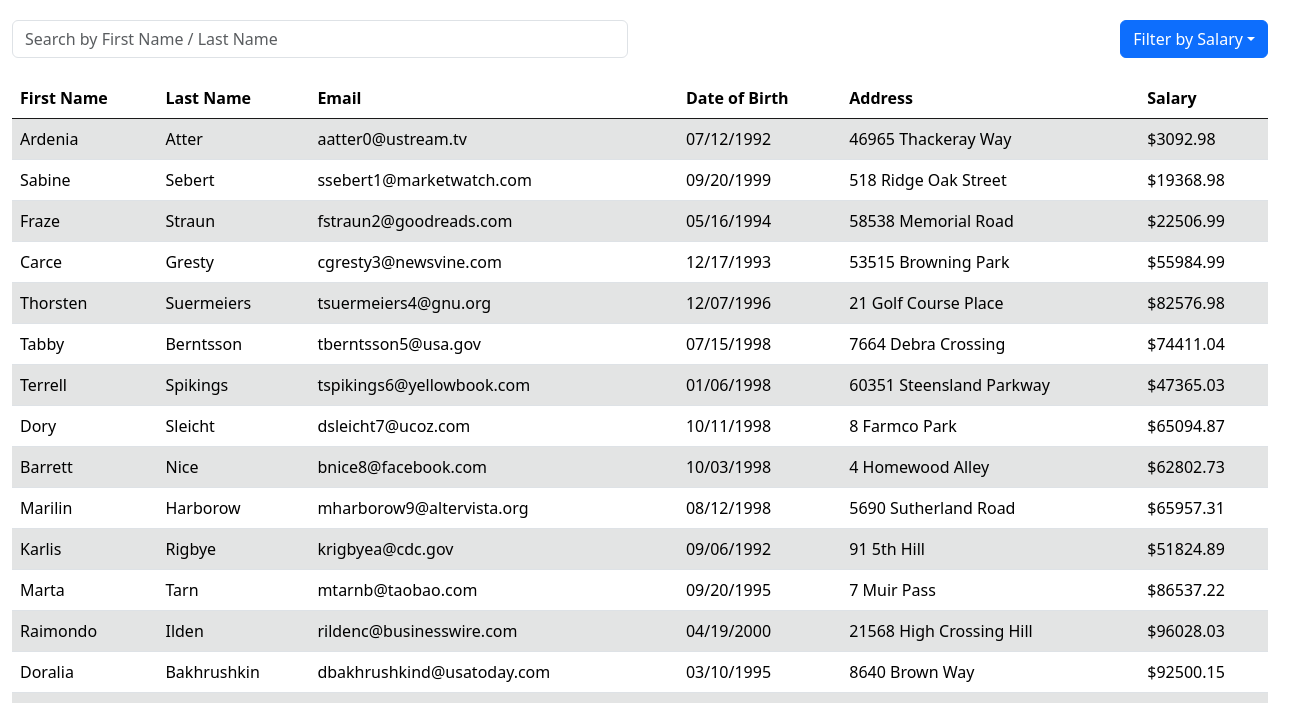
Test: EmployeeTable › filters employees by salary when a salary option is selected less than 25k
Click the button "Filter by Salary": x=1194, y=39 x1=1120 y1=20 x2=1268 y2=58
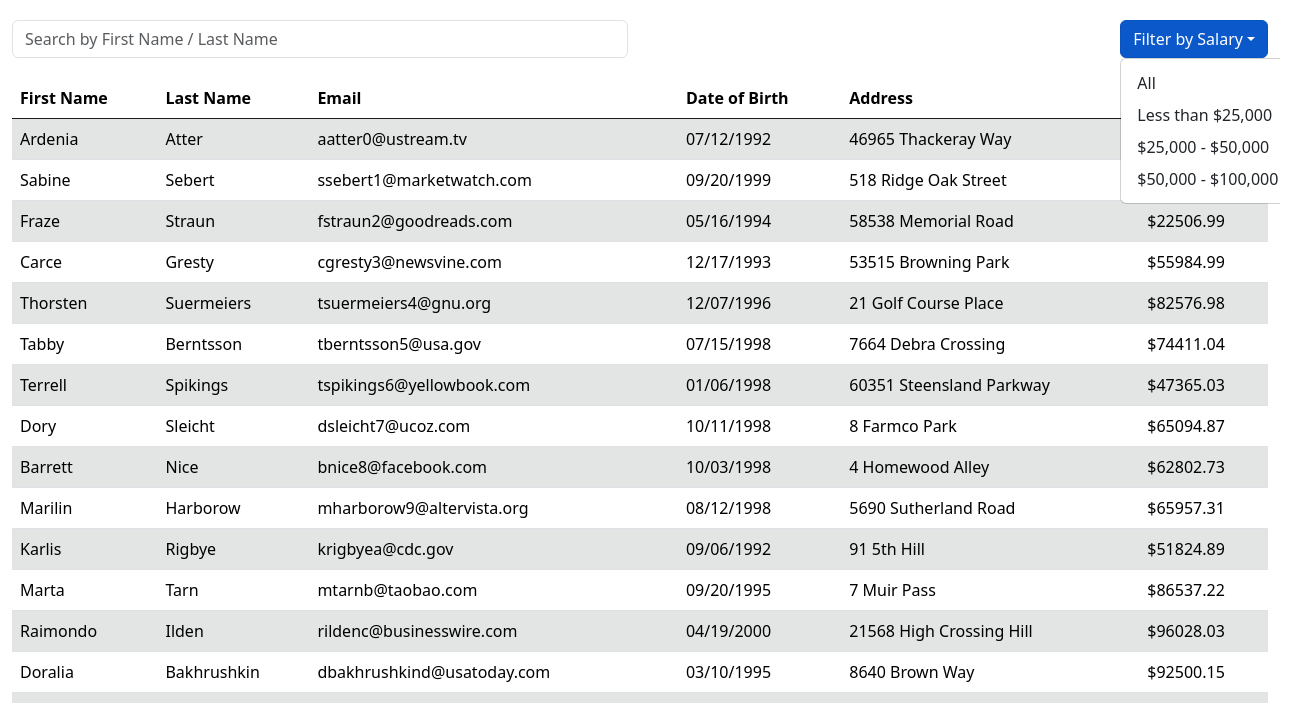
Click the button "Less than $25,000": x=1205, y=115 x1=1137 y1=104 x2=1272 y2=126
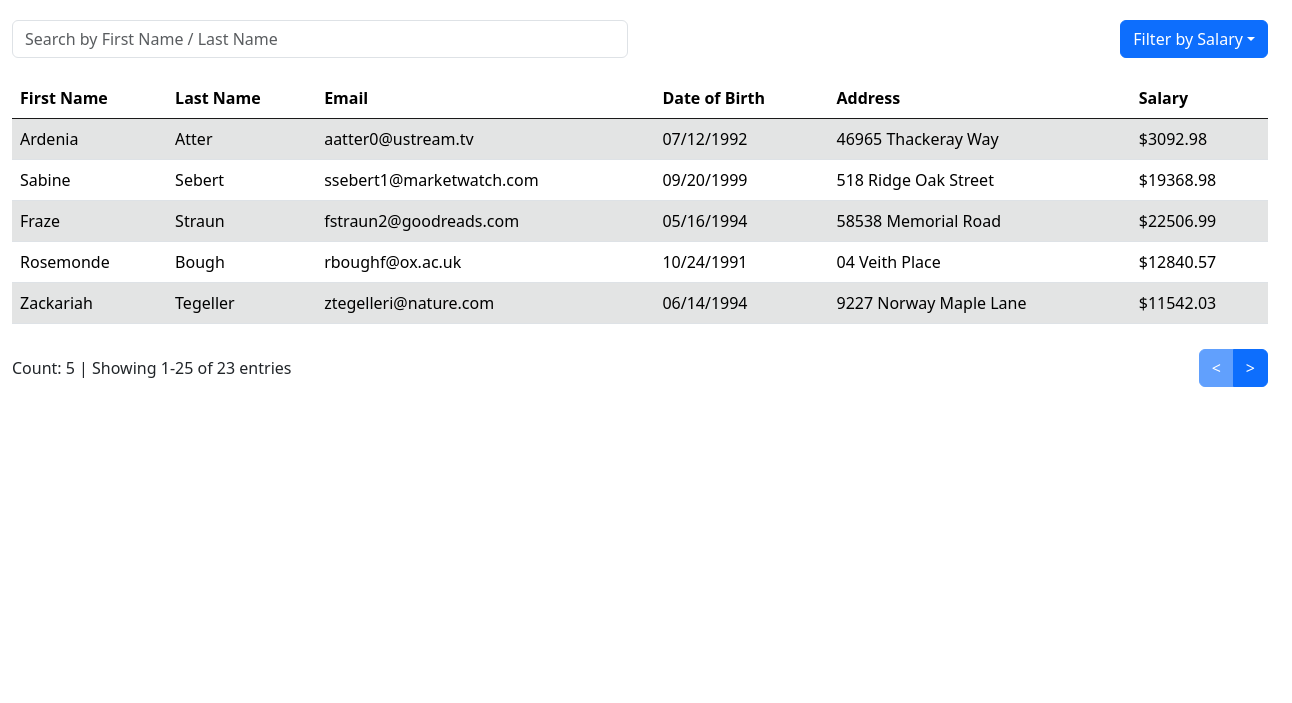
Check: the number of rows with test id "employee-info-row" is 5, box x1=12 y1=118 x2=1268 y2=160; x1=12 y1=160 x2=1268 y2=200; x1=12 y1=200 x2=1268 y2=242; x1=12 y1=242 x2=1268 y2=282; x1=12 y1=282 x2=1268 y2=324
